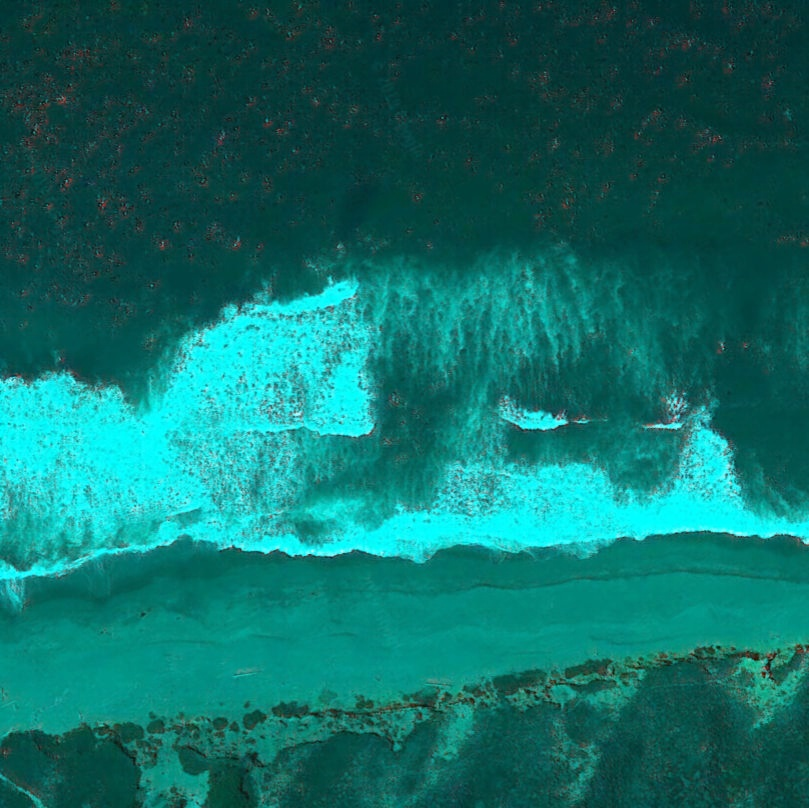rip_current: (305, 249, 492, 521)
